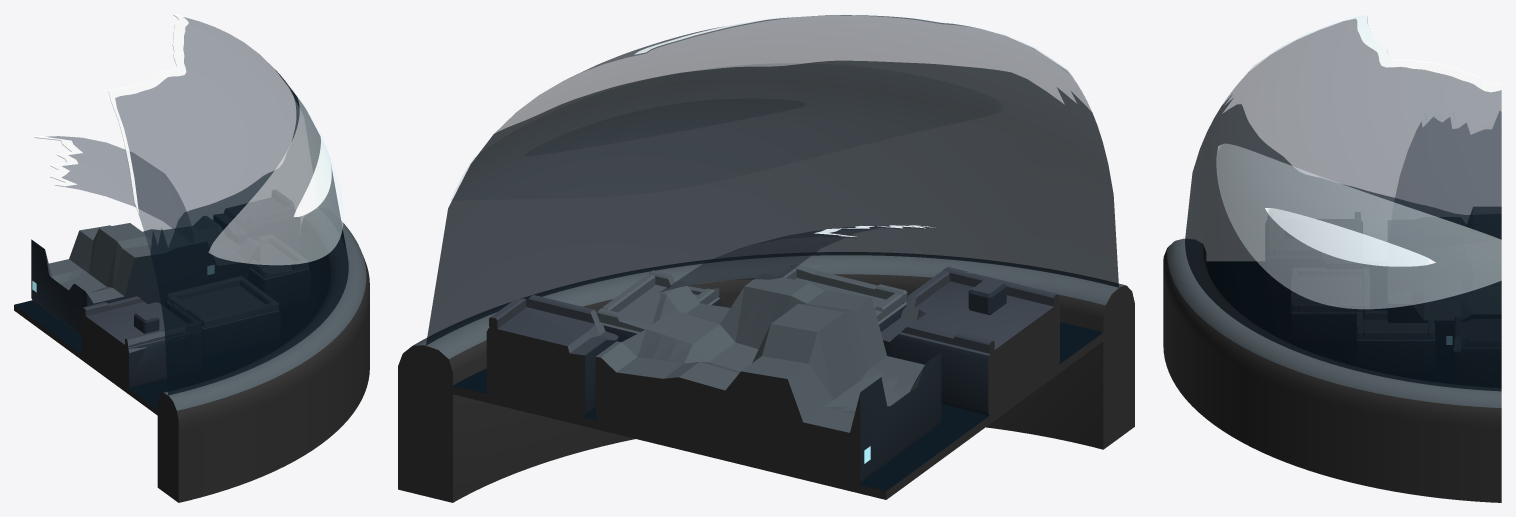
File: glass_city_br_wreck.glb
3 views of the same model, side by side, from view 1: azimuth 30°, elevation 25°; view 2: azimuth 150°, elevation 25°; view 3: azimuth 270°, elevation 25° (orthographic). The views are drawn at different scales.
Visible parts, largest first — view 1: glassshell.001, collar.001, b7.001, glassshell_b_crescent.001, b12.001, floor.001, glassshell_fallen2.001, b13.001, glassshell_d_edge.001, b11.001, glassshell_c_core.001, b12_rim_s.001 (+5 smaller); view 2: glassshell.001, b7.001, collar.001, b12.001, b10.001, floor.001, glassshell_fallen2.001, b13_rim_s.001, b11.001, b12_rim_s.001, b12_rim_n.001, b12_unit0.001 (+1 smaller); view 3: glassshell.001, collar.001, glassshell_b_crescent.001, glassshell_fallen2.001, floor.001, glassshell_c_core.001, b7.001, b11.001, b10.001, b13.001, glassshell_d_edge.001, glassshell_e_fallen2.001 (+3 smaller).
Part boxes in pixels (<box>): glassshell.001: <box>109,15,348,395</box>; collar.001: <box>157,221,369,502</box>; b7.001: <box>31,216,249,335</box>; glassshell_b_crescent.001: <box>208,85,343,265</box>; b12.001: <box>81,302,202,388</box>; floor.001: <box>14,259,327,415</box>; glassshell_fallen2.001: <box>34,136,186,229</box>; b13.001: <box>165,286,280,357</box>; glassshell_d_edge.001: <box>109,14,188,214</box>; b11.001: <box>248,264,310,308</box>; glassshell_c_core.001: <box>294,130,331,216</box>; b12_rim_s.001: <box>125,321,200,347</box>; glassshell.001: <box>426,15,1118,345</box>; b7.001: <box>595,273,941,484</box>; collar.001: <box>398,252,1134,502</box>; b12.001: <box>881,281,1059,415</box>; b10.001: <box>486,307,618,417</box>; floor.001: <box>450,307,1104,499</box>; glassshell_fallen2.001: <box>660,225,922,292</box>; b13_rim_s.001: <box>790,263,907,303</box>; b11.001: <box>601,284,721,341</box>; b12_rim_s.001: <box>943,267,1058,307</box>; b12_rim_n.001: <box>901,323,994,354</box>; b12_unit0.001: <box>968,279,1006,314</box>; glassshell.001: <box>1185,17,1501,391</box>; collar.001: <box>1163,238,1501,502</box>; glassshell_b_crescent.001: <box>1216,143,1501,309</box>; glassshell_fallen2.001: <box>1395,111,1501,214</box>; floor.001: <box>1206,261,1452,383</box>; glassshell_c_core.001: <box>1265,208,1435,266</box>; b7.001: <box>1388,207,1501,356</box>; b11.001: <box>1355,319,1435,373</box>; b10.001: <box>1453,319,1501,387</box>; b13.001: <box>1290,290,1370,342</box>; glassshell_d_edge.001: <box>1246,14,1501,92</box>; glassshell_e_fallen2.001: <box>1421,103,1501,134</box>.
Bounding box in the file's own units: 18.81 × 18.5 × 16.6.
